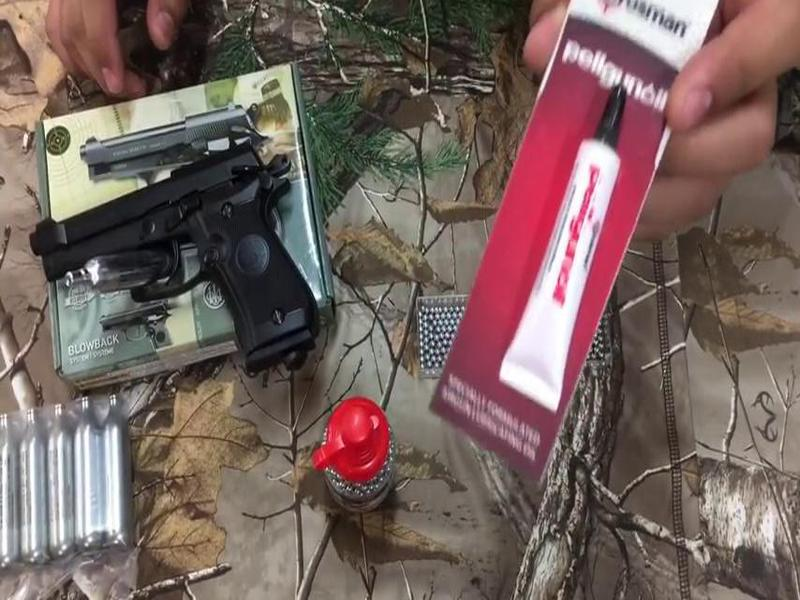Pistola: (24, 126, 347, 390)
